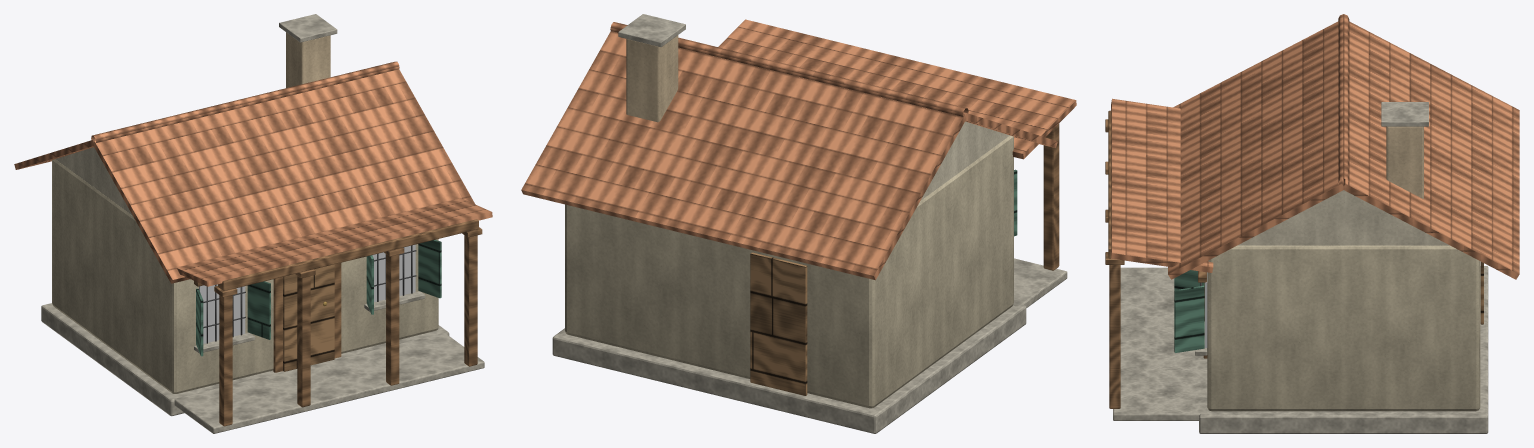
File: house_colonial.glb
3 renders of one model, left to right at view 1: azimuth 30°, elevation 25°; view 2: azimuth 150°, elevation 25°; view 3: azimuth 270°, elevation 25°, orthographic. The views are drawn at different scales.
Parts seen in each view (by area): view 1: house_colonial_geometry; view 2: house_colonial_geometry; view 3: house_colonial_geometry.
Part boxes in pixels (x1,y1,x2,y2): house_colonial_geometry: [14, 14, 492, 433]; house_colonial_geometry: [521, 14, 1076, 433]; house_colonial_geometry: [1105, 14, 1519, 433].
Bounding box in the file's own units: 5.7 × 4.79 × 6.06.
Materials: 8 (8 with a texture image).
